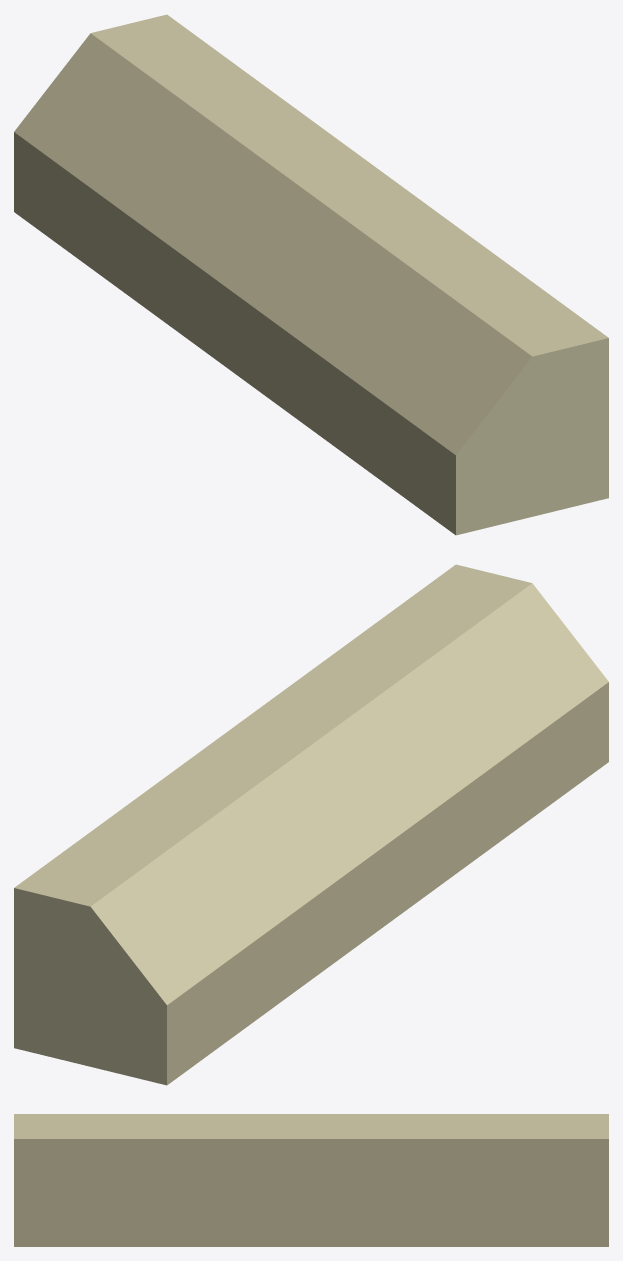
The model's file is Shape_Trim.FBX.
3 views of the same model, one above another, from view 1: azimuth 30°, elevation 25°; view 2: azimuth 150°, elevation 25°; view 3: azimuth 270°, elevation 25° (orthographic). The views are drawn at different scales.
Visible parts, largest first — view 1: Shape_Trim; view 2: Shape_Trim; view 3: Shape_Trim.
Part boxes in pixels (x1,y1,x2,y2): Shape_Trim: (14, 14, 608, 535); Shape_Trim: (14, 564, 608, 1085); Shape_Trim: (14, 1114, 608, 1246).
Bounding box in the file's own units: 20 × 100 × 20.
